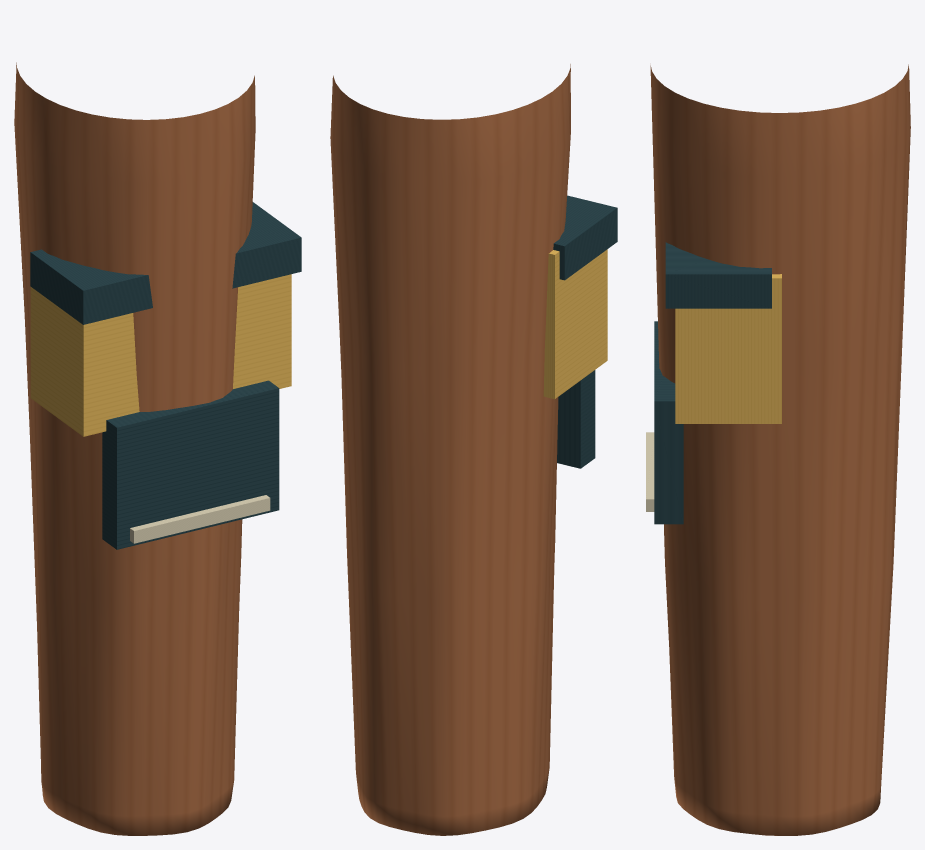
File: foundry_armored_cargos.gltf
3 views of the same model, side by side, from view 1: azimuth 30°, elevation 25°; view 2: azimuth 150°, elevation 25°; view 3: azimuth 270°, elevation 25° (orthographic).
Parts seen in each view (by area): view 1: LegL, LegR; view 2: LegL; view 3: LegL, LegR.
Boxes of the visible parts, x1,y1,x2,y2 form: LegL: (14,62,279,835); LegR: (232,202,301,388); LegL: (330,64,617,835); LegL: (646,64,910,835); LegR: (665,242,781,423).
Size of the model in its own units: 0.234 by 0.749 by 0.2437.
Materials: 4 (4 with a texture image).
